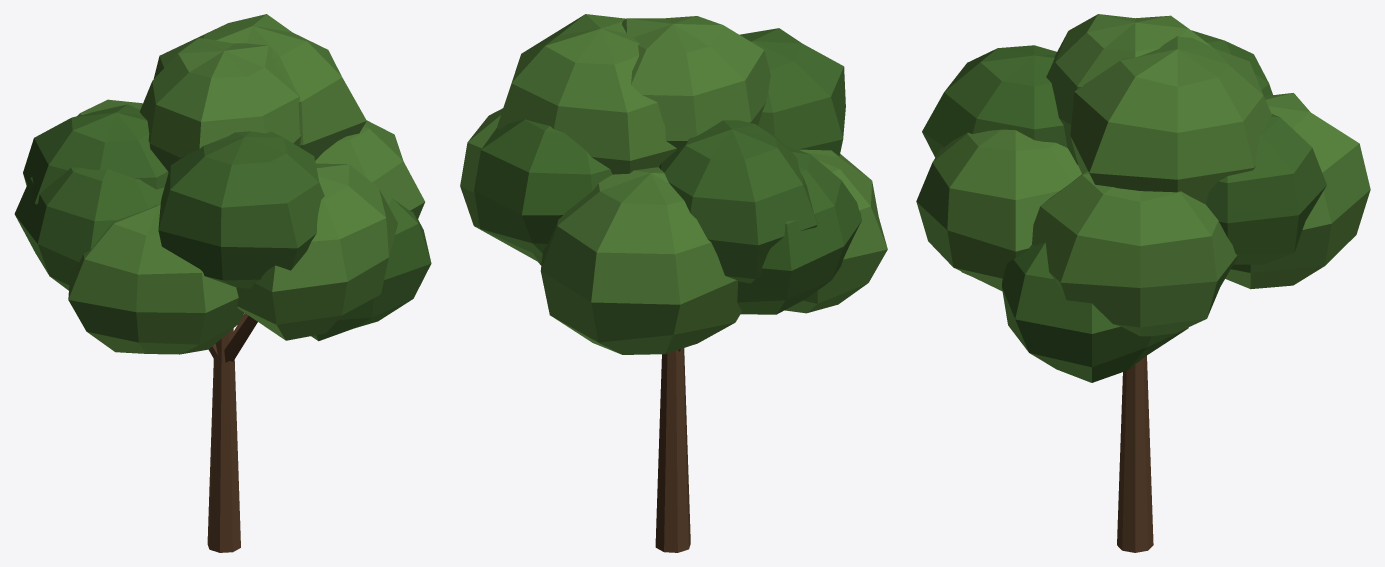
The model's file is tree_oak_small.glb.
3 views of the same model, side by side, from view 1: azimuth 30°, elevation 25°; view 2: azimuth 150°, elevation 25°; view 3: azimuth 270°, elevation 25° (orthographic). The views are drawn at different scales.
Parts seen in each view (by area): view 1: tree_oak_small; view 2: tree_oak_small; view 3: tree_oak_small.
Boxes of the visible parts, box(x1,y1,x2,y2) form: tree_oak_small: box(14, 14, 431, 552); tree_oak_small: box(460, 14, 887, 552); tree_oak_small: box(916, 14, 1370, 552).
Bounding box in the file's own units: 3.39 × 4.46 × 3.52.
